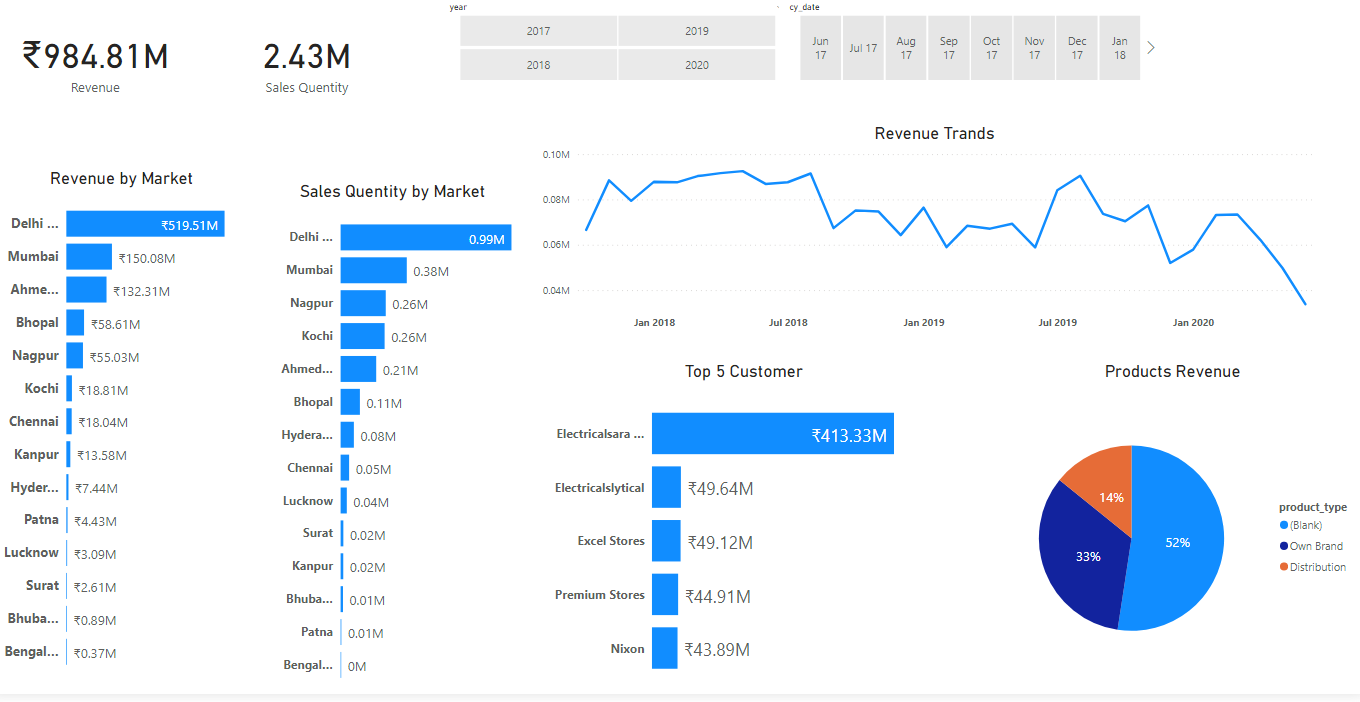

The dashboard page shown, as its layout file describes it:
{"tool":"powerbi","page":{"name":"Key Insights","canvas":[1677,850],"ordinal":0},"visuals":[{"type":"card","fields":{"Values":["sales customers.Revenue"]},"box":[0,0,256.6,153.1],"z":0},{"type":"card","fields":{"Values":["sales customers.Sales Quentity"]},"box":[256.6,0,261,153.1],"z":1000},{"type":"barChart","title":"Revenue by Market","fields":{"Y":["sales customers.Revenue"],"Category":["sales markets.markets_name"]},"box":[0,207.1,320.8,627],"z":2000},{"type":"barChart","title":"Sales Quentity by Market","fields":{"Y":["sales customers.Sales Quentity"],"Category":["sales markets.markets_name"]},"box":[338.4,224.1,304.9,626.6],"z":3000},{"type":"slicer","fields":{"Values":["sales date.year"]},"box":[547.3,0,434.5,106.7],"z":4000},{"type":"slicer","fields":{"Values":["sales date.cy_date"]},"box":[962,0,465,106.7],"z":5000},{"type":"barChart","title":"Top 5  Customer","fields":{"Y":["sales customers.Revenue"],"Category":["sales customers.custmer_name"]},"box":[669.3,443.6,500.1,407.1],"z":6000},{"type":"pieChart","title":"Products Revenue","fields":{"Category":["sales products.product_type"],"Y":["sales customers.Revenue"]},"box":[1207.4,443.6,469.6,407.1],"z":7000},{"type":"lineChart","title":"Revenue Trands","fields":{"Y":["sales customers.Sales Quentity"],"Category":["sales date.cy_date"]},"box":[669.3,152.5,965,262.2],"z":8000}]}

Visuals, with their boxes in screenshot pixels (x1, y1, x2, y2), scaled from the page's 1677x850 canvas onto the 1360x702 screenshot:
card - sales customers.Revenue: box=[0, 0, 208, 126]
card - sales customers.Sales Quentity: box=[208, 0, 420, 126]
"Revenue by Market" barChart: box=[0, 171, 260, 689]
"Sales Quentity by Market" barChart: box=[274, 185, 522, 701]
slicer - sales date.year: box=[444, 0, 796, 88]
slicer - sales date.cy_date: box=[780, 0, 1157, 88]
"Top 5  Customer" barChart: box=[543, 366, 948, 701]
"Products Revenue" pieChart: box=[979, 366, 1359, 701]
"Revenue Trands" lineChart: box=[543, 126, 1325, 342]
